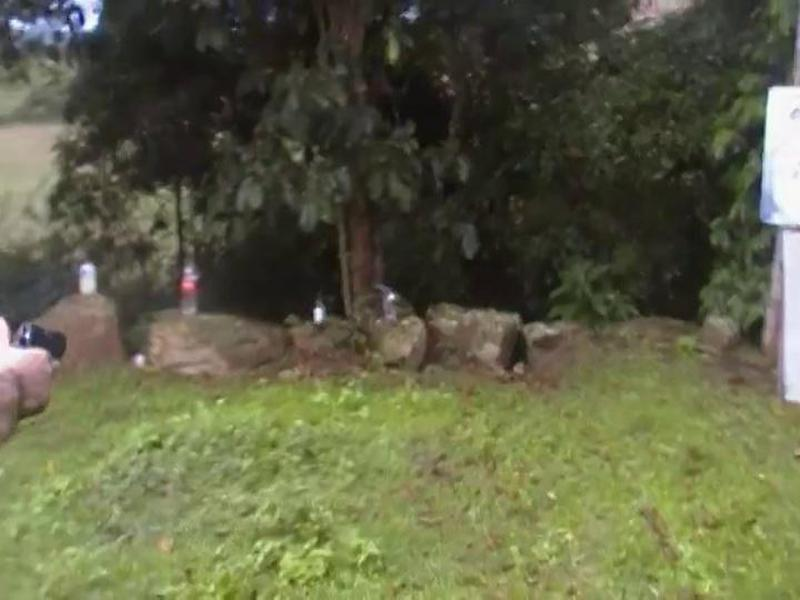Pistola: (1, 297, 74, 402)
